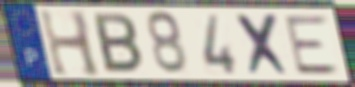4: (201, 12, 240, 77)
8: (145, 9, 190, 79)
B: (90, 11, 145, 76)
E: (282, 14, 343, 77)
H: (37, 7, 105, 79)
X: (233, 12, 295, 78)
